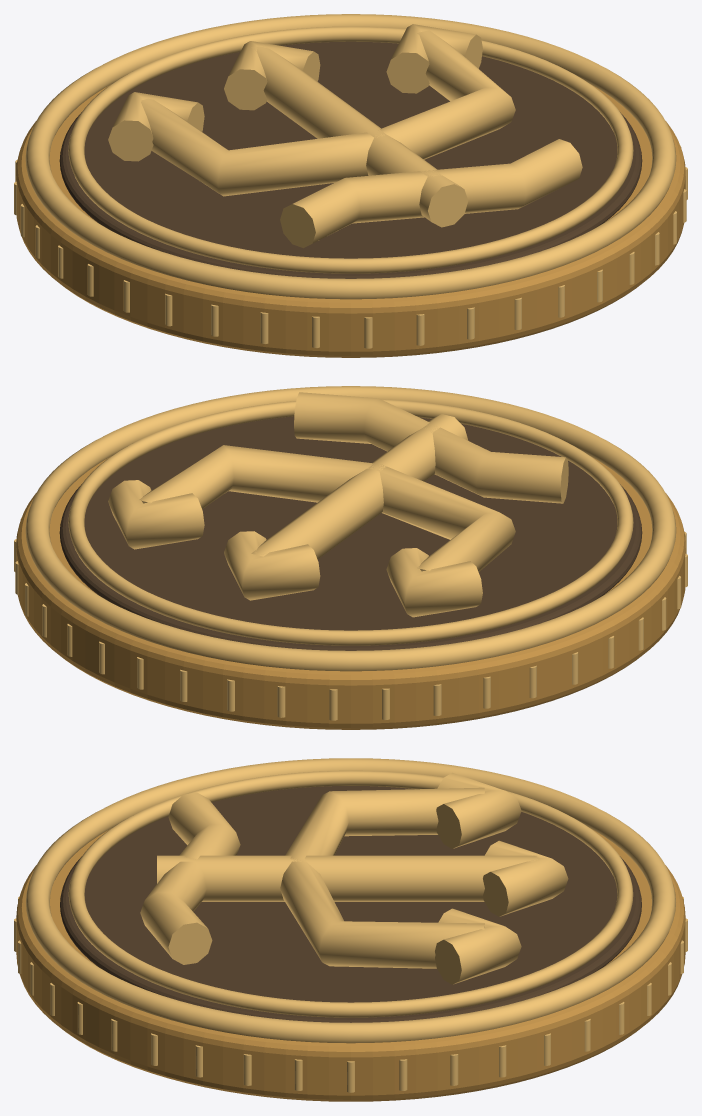
Rendered from A-TideTrident.fbx.
3 renders of one model, top to bottom at view 1: azimuth 30°, elevation 25°; view 2: azimuth 150°, elevation 25°; view 3: azimuth 270°, elevation 25°, orthographic.
Visible parts, largest first — view 1: A-TideTrident; view 2: A-TideTrident; view 3: A-TideTrident.
Boxes of the visible parts, x1=… form: A-TideTrident: x1=14, y1=14, x2=687, y2=357; A-TideTrident: x1=14, y1=386, x2=687, y2=729; A-TideTrident: x1=14, y1=758, x2=687, y2=1101.
Size of the model in its own units: 101 by 17.38 by 101.
